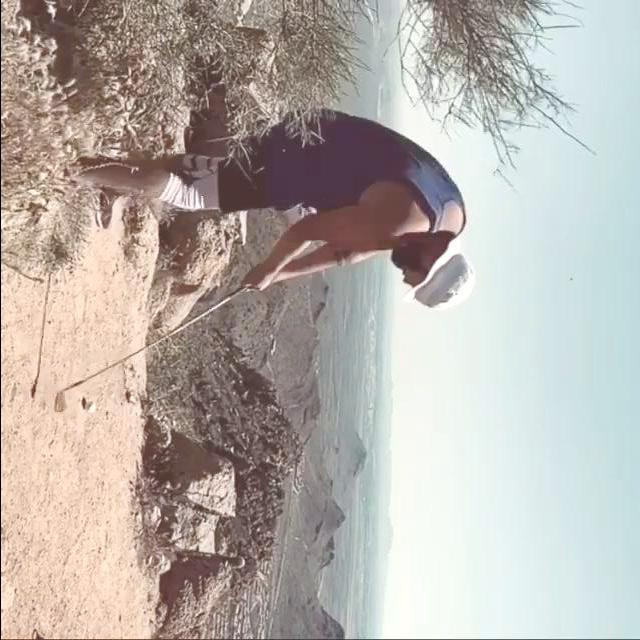golf ball: (87, 399, 96, 412)
golf club-handle: (46, 279, 252, 414)
golf club-head: (51, 390, 65, 413)
